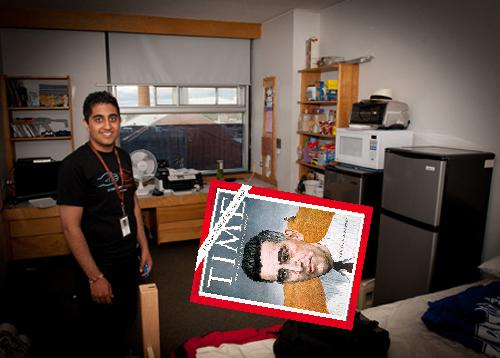times: (189, 177, 373, 329)
